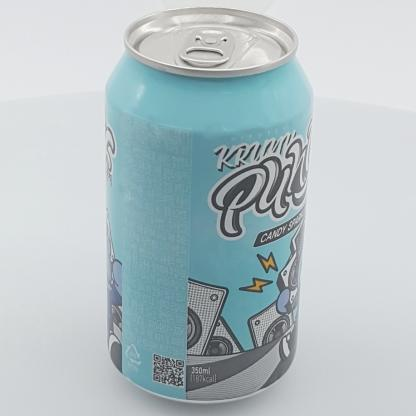-----------------350ML: (104, 6, 315, 404)
